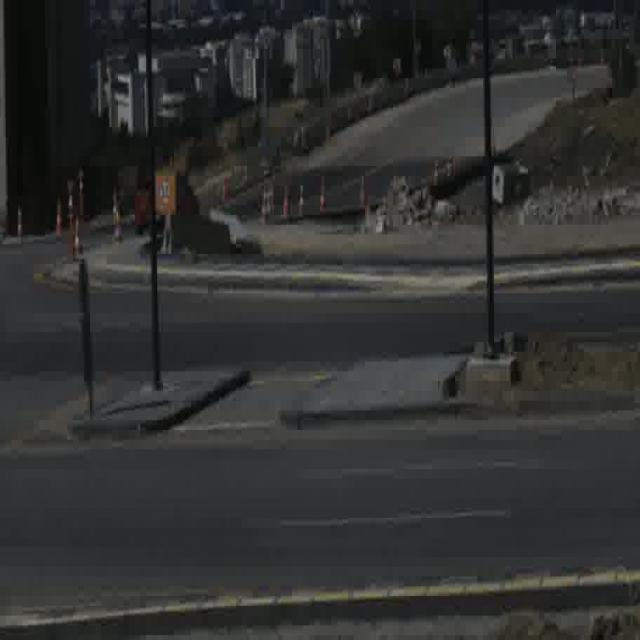Car: (135, 174, 197, 234)
